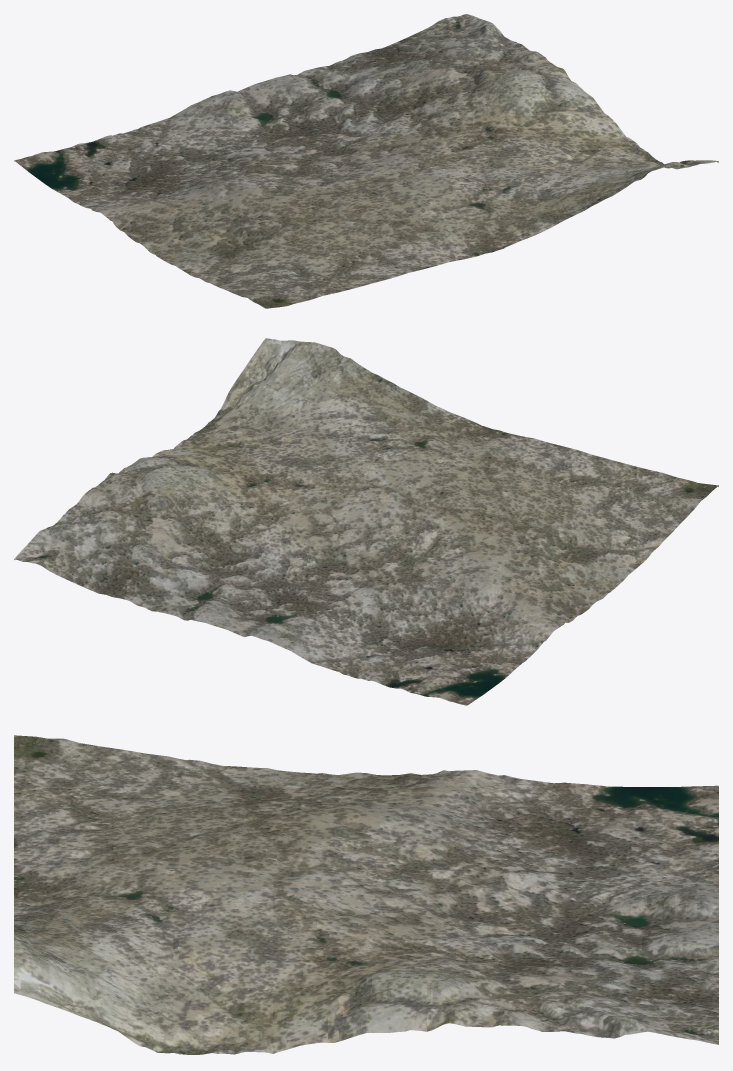
The picture shows the model from 3 angles, top to bottom: view 1: azimuth 30°, elevation 25°; view 2: azimuth 150°, elevation 25°; view 3: azimuth 270°, elevation 25°; orthographic projection. The views are drawn at different scales.
Bounding box in the file's own units: 1000 × 174 × 963.
Materials: 1 (1 with a texture image).
